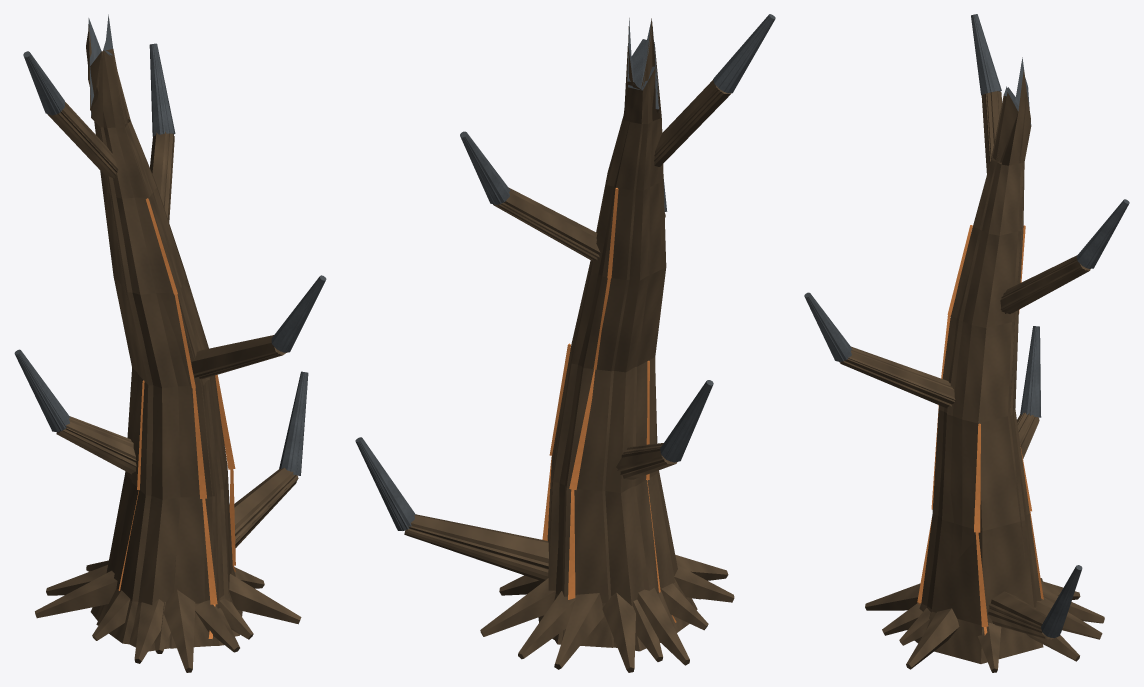
The model's file is EmberSnag.fbx.
The picture shows the model from 3 angles, left to right: view 1: azimuth 30°, elevation 25°; view 2: azimuth 150°, elevation 25°; view 3: azimuth 270°, elevation 25°; orthographic projection. The views are drawn at different scales.
Visible parts, largest first — view 1: EmberSnagDetail0, EmberSnagDetail1, EmberSnagDetail2; view 2: EmberSnagDetail0, EmberSnagDetail1, EmberSnagDetail2; view 3: EmberSnagDetail0, EmberSnagDetail2, EmberSnagDetail1.
Part boxes in pixels (x1=…): EmberSnagDetail0: x1=14, y1=14, x2=326, y2=653; EmberSnagDetail1: x1=15, y1=18, x2=322, y2=663; EmberSnagDetail2: x1=15, y1=44, x2=324, y2=672; EmberSnagDetail0: x1=355, y1=14, x2=775, y2=669; EmberSnagDetail1: x1=358, y1=14, x2=775, y2=665; EmberSnagDetail2: x1=356, y1=14, x2=774, y2=672; EmberSnagDetail0: x1=804, y1=14, x2=1129, y2=672; EmberSnagDetail2: x1=804, y1=16, x2=1127, y2=663; EmberSnagDetail1: x1=805, y1=14, x2=1128, y2=645.
Bounding box in the file's own units: 269 × 456 × 243.
1 material, 1 textured.
